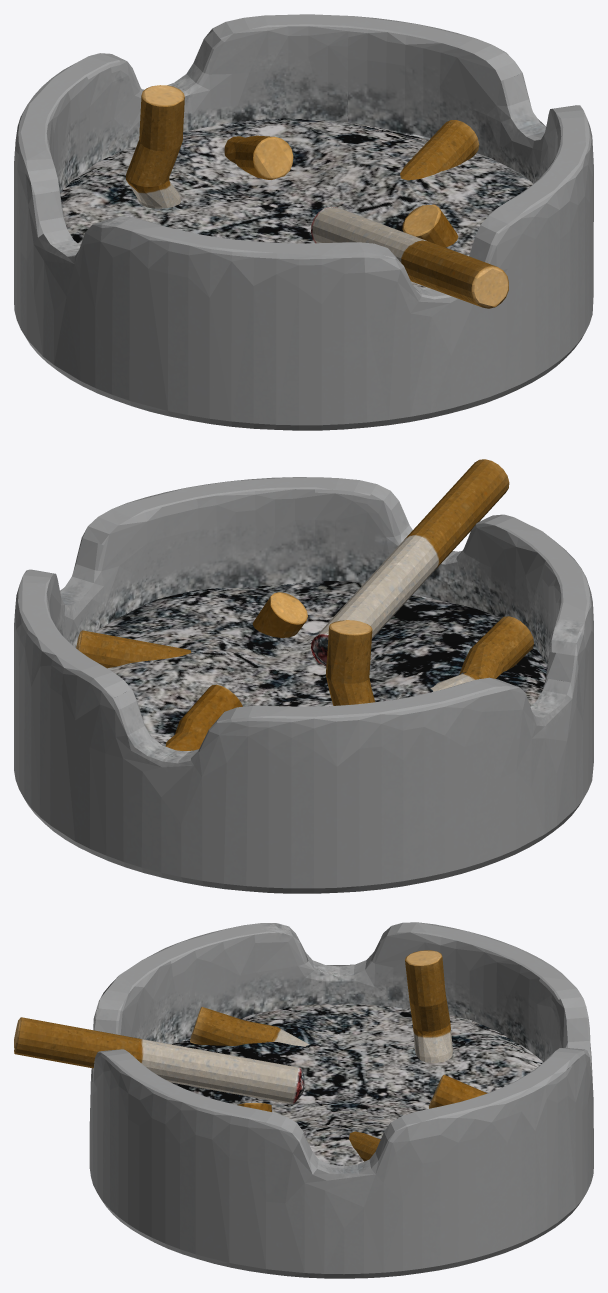
Rendered from ASHTRAY.fbx.
3 renders of one model, top to bottom at view 1: azimuth 30°, elevation 25°; view 2: azimuth 150°, elevation 25°; view 3: azimuth 270°, elevation 25°, orthographic. The views are drawn at different scales.
Parts seen in each view (by area): view 1: transform1; view 2: transform1; view 3: transform1.
Part boxes in pixels (x1,y1,x2,y2): transform1: (14, 14, 593, 430); transform1: (14, 459, 593, 893); transform1: (14, 922, 593, 1278).
Bounding box in the file's own units: 0.6151 × 0.2471 × 0.7077.
Materials: 1 (1 with a texture image).
